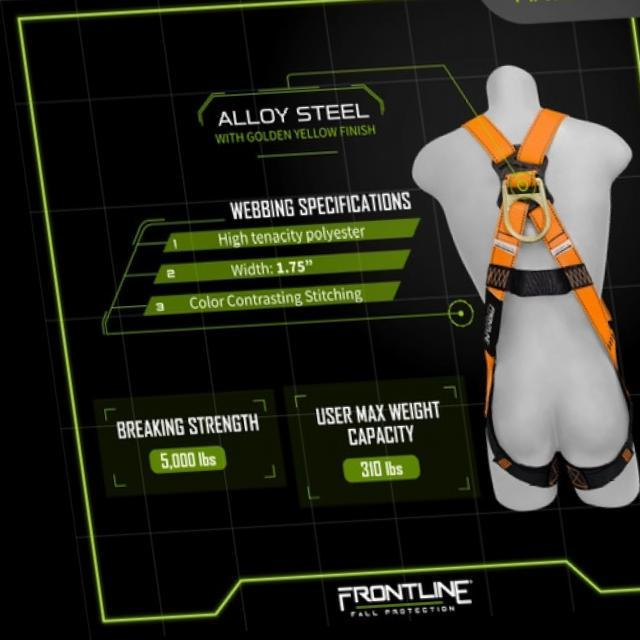belt: (433, 107, 640, 498), (430, 113, 626, 502)
